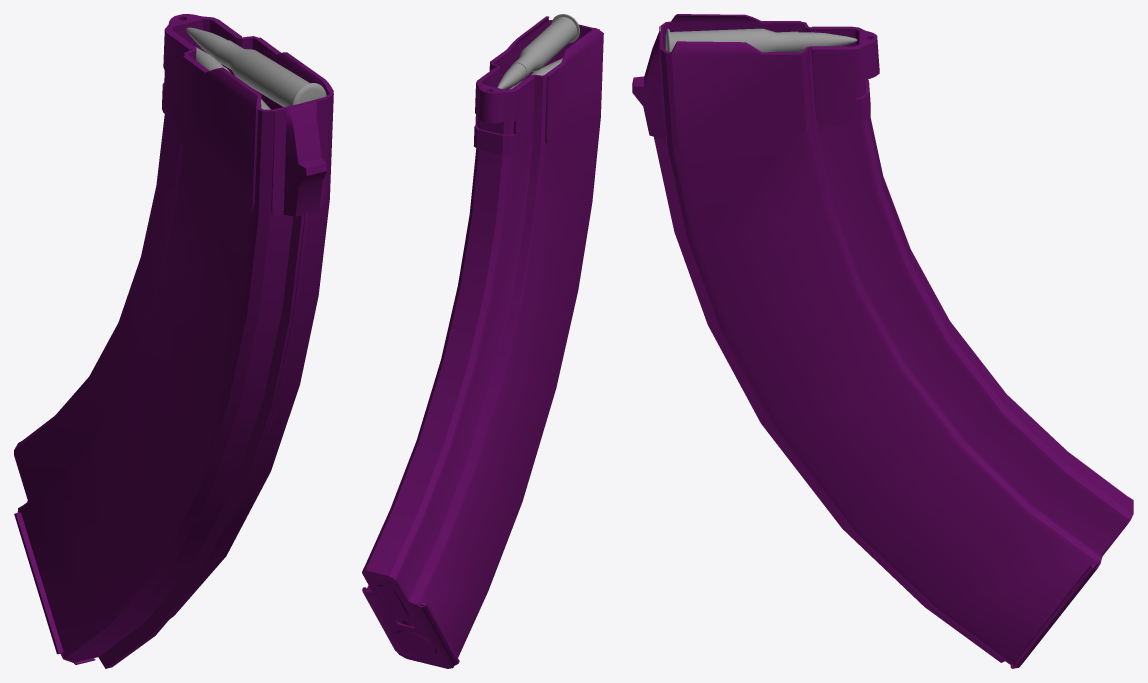
Rendered from Ak47M1_MagazineClean_Full.FBX.
The picture shows the model from 3 angles, left to right: view 1: azimuth 30°, elevation 25°; view 2: azimuth 150°, elevation 25°; view 3: azimuth 270°, elevation 25°; orthographic projection. The views are drawn at different scales.
Parts seen in each view (by area): view 1: Ak10_Magazine, Shell, Ak10_Magazine_plate, Bullet; view 2: Ak10_Magazine, Ak10_Magazine_plate, Shell, Bullet; view 3: Ak10_Magazine, Shell, Ak10_Magazine_plate, Bullet.
Boxes of the visible parts, <box> form: Ak10_Magazine: <box>15,14,333,668</box>; Shell: <box>215,40,326,106</box>; Ak10_Magazine_plate: <box>14,442,97,664</box>; Bullet: <box>186,27,227,59</box>; Ak10_Magazine: <box>363,16,603,666</box>; Ak10_Magazine_plate: <box>362,569,459,668</box>; Shell: <box>511,14,579,78</box>; Bullet: <box>497,63,526,89</box>; Ak10_Magazine: <box>632,14,1132,667</box>; Shell: <box>665,28,799,52</box>; Ak10_Magazine_plate: <box>1010,499,1133,668</box>; Bullet: <box>798,32,857,51</box>.
Size of the model in its own units: 2.54 by 20.5 by 14.63.
